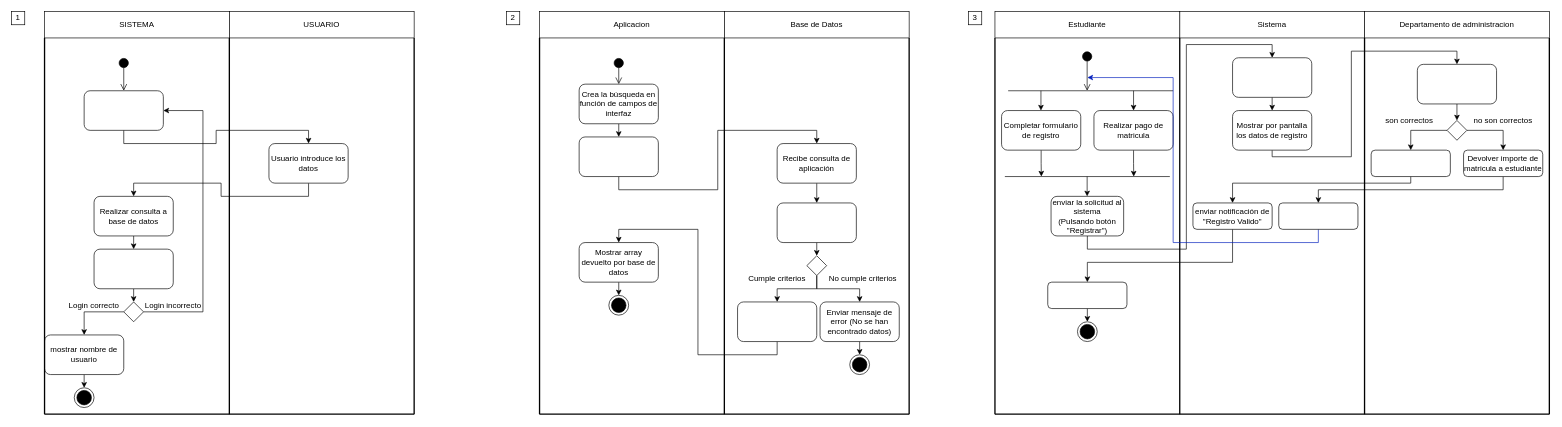
Image size: 1562x427. Some labels were removed from this diagram. The shapes that lost their labels are listed below. From the top down, each one's box as (x1, y1, x2, y2) in pixels, then its label:
(1232, 57, 1312, 97): Recibir datos y almacenarlos
(1417, 64, 1497, 104): Recibir y confirmar datos de registro
(83, 90, 163, 130): Solicitar a usuario datos de login
(578, 136, 658, 177): Envía consulta a base de datos
(1370, 149, 1450, 177): Validar Registro
(776, 202, 856, 243): Comprobar si cumple criterios
(1278, 202, 1358, 229): Eliminar datos de registro
(93, 248, 173, 289): Comprobar datos
(1047, 281, 1127, 309): Recibir notificación de registro valido
(737, 301, 817, 342): devolver array con filas que cumplan criterio
